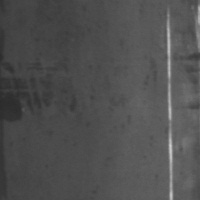patches: (0, 89, 33, 122)
pitted_surface: (69, 55, 133, 187)
scratches: (163, 7, 179, 200)
